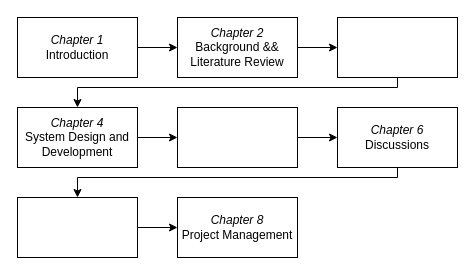
Image size: 475x275. Some labels were removed from this diagram. The shapes that lost their labels are listed below. From the top down, each one's box as (x1, y1, x2, y2) in pixels, then its label:
(336, 16, 458, 78): Chapter 3 Requirement Analysis
(176, 106, 298, 168): Chapter 5 Results
(16, 196, 138, 258): Chapter 7 Conclusion
